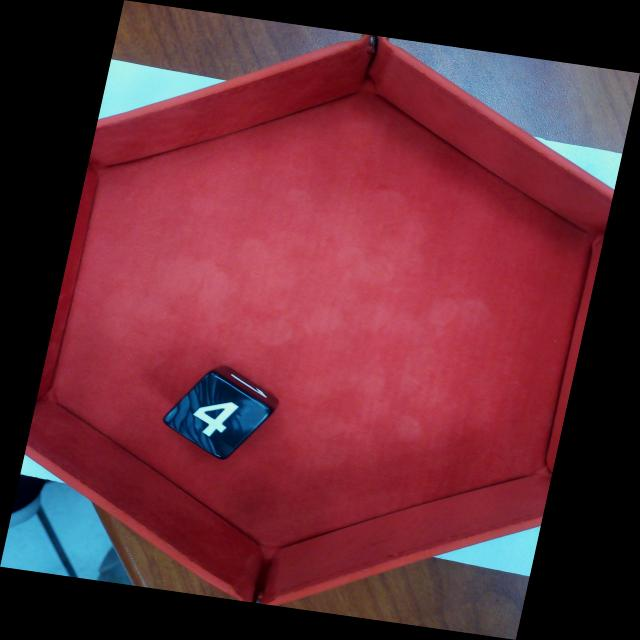dice: (162, 371, 274, 461)
